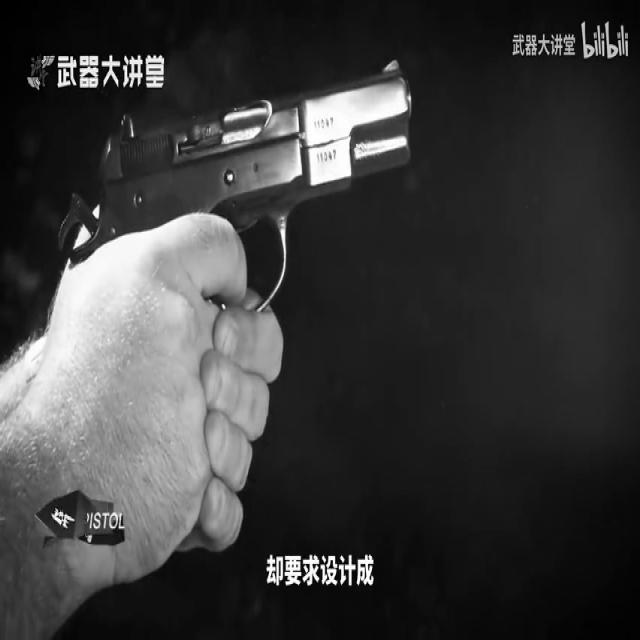Hand-Gun: (72, 45, 417, 418)
